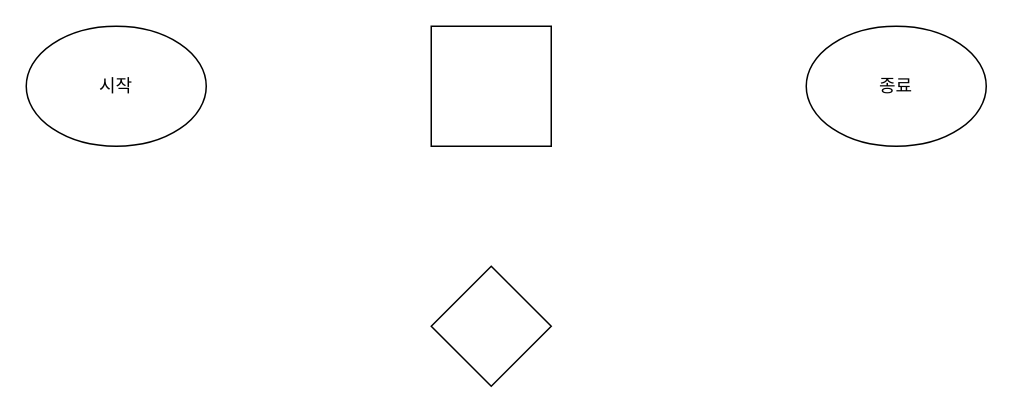
The diagram is 1013 pixels wide and 413 high, and some of its shapes have lost their labels. The centre of each missing label's shape, as x and y in pixels:
"판단/조건" goes at [490,325].
"행동" goes at [490,85].
